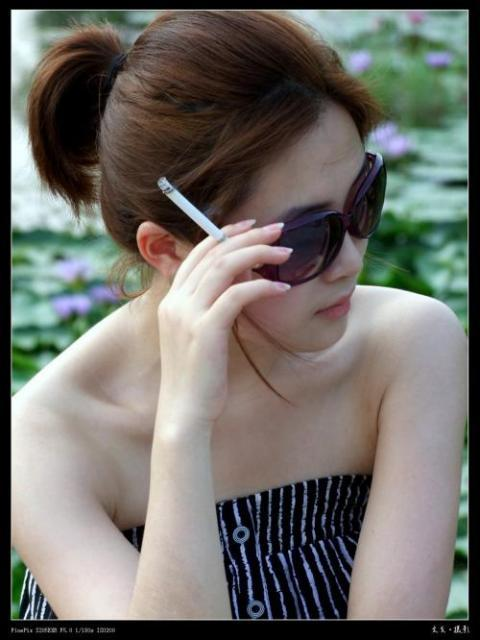Smoking: (154, 176, 224, 240)
